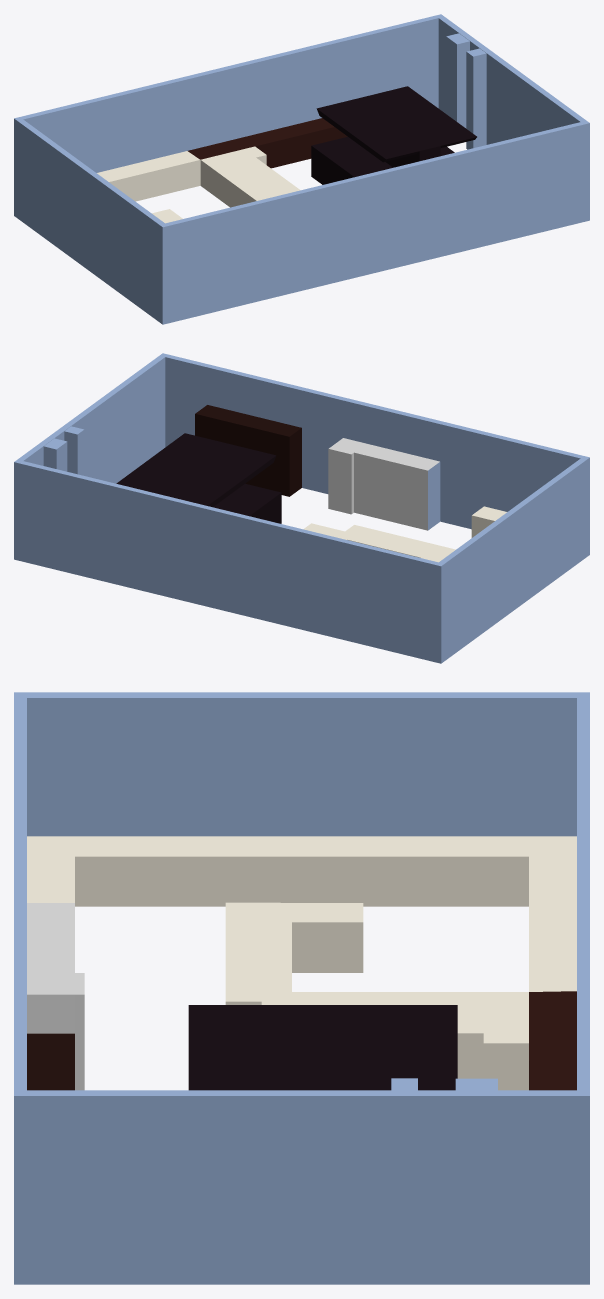
The model's file is LACEA_prototipo_sem_chao_v2.dae.
3 views of the same model, one above another, from view 1: azimuth 30°, elevation 25°; view 2: azimuth 150°, elevation 25°; view 3: azimuth 270°, elevation 25° (orthographic). The views are drawn at different scales.
Visible parts, largest first — view 1: Plane, Plane.003, Plane.004, Plane.006, Plane.005; view 2: Plane, Plane.003, Plane.001, Plane.002, Plane.004, Plane.005; view 3: Plane, Plane.005, Plane.003, Plane.004, Plane.001, Plane.006, Plane.002.
Boxes of the visible parts, box(x1,y1,x2,y2) form: Plane: box(14, 14, 589, 324); Plane.003: box(311, 86, 476, 184); Plane.004: box(152, 146, 300, 223); Plane.006: box(188, 118, 347, 168); Plane.005: box(97, 151, 200, 201); Plane: box(14, 353, 589, 663); Plane.003: box(116, 433, 281, 523); Plane.001: box(328, 438, 439, 530); Plane.002: box(195, 405, 301, 496); Plane.004: box(303, 523, 455, 562); Plane.005: box(471, 506, 506, 537); Plane: box(14, 692, 589, 1284); Plane.005: box(27, 836, 576, 991); Plane.003: box(188, 1005, 457, 1090); Plane.004: box(225, 902, 528, 1090); Plane.001: box(27, 903, 84, 1090); Plane.006: box(529, 991, 576, 1090); Plane.002: box(27, 1033, 74, 1090).
Bounding box in the file's own units: 10.12 × 6.11 × 2.21.
